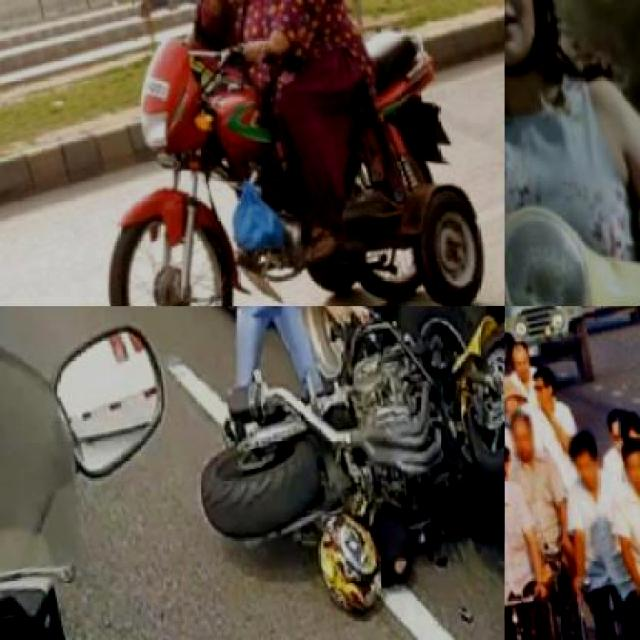Without Helmet: (566, 413, 616, 493), (507, 400, 551, 462), (620, 426, 638, 494), (504, 432, 514, 503)
